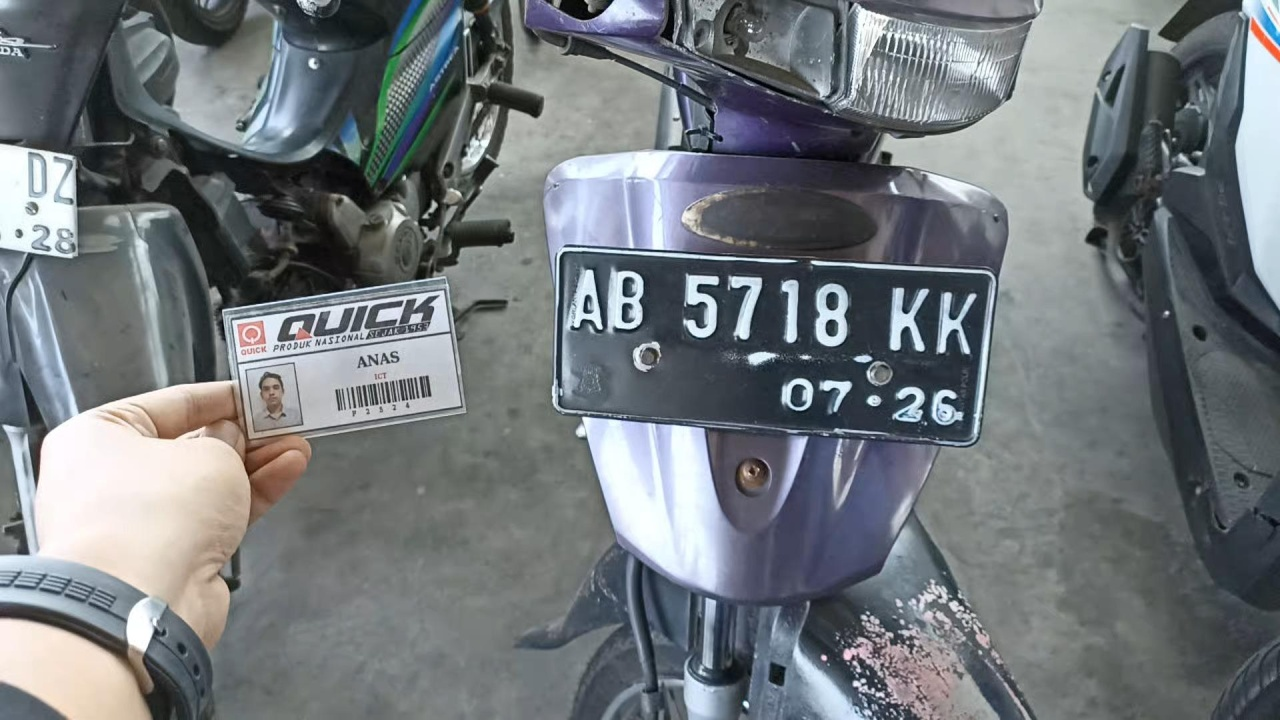plate: (553, 247, 998, 446)
